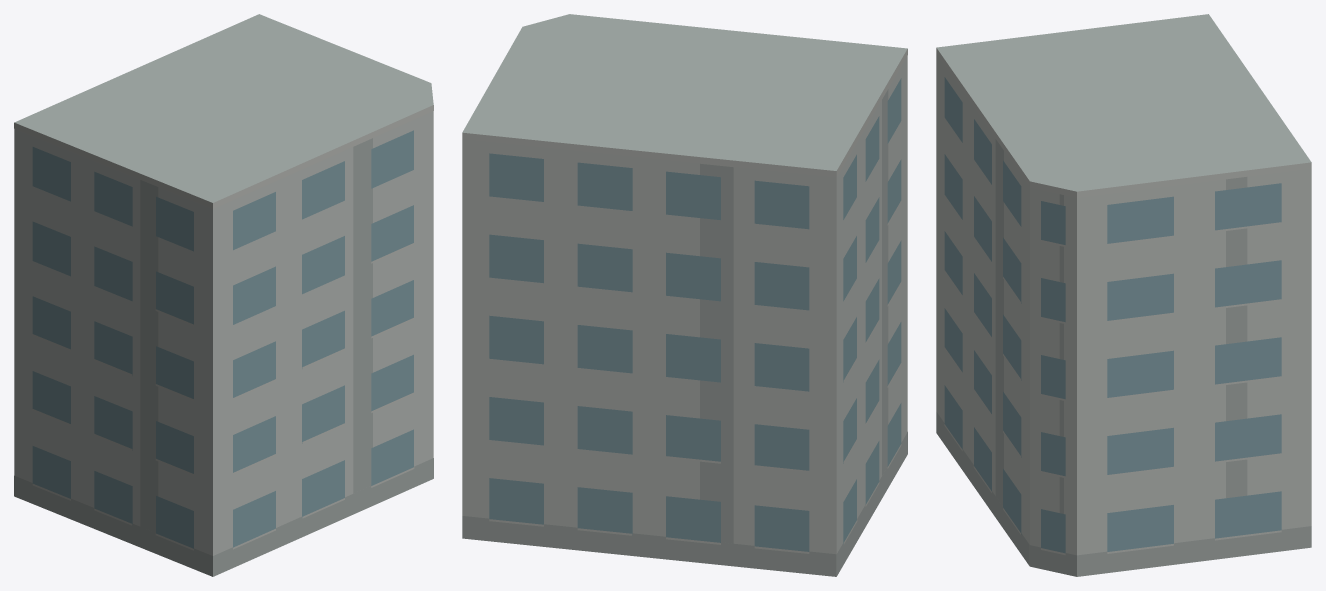
Rendered from survey-upis-32735689.glb.
3 views of the same model, side by side, from view 1: azimuth 30°, elevation 25°; view 2: azimuth 150°, elevation 25°; view 3: azimuth 270°, elevation 25° (orthographic). The views are drawn at different scales.
Parts seen in each view (by area): view 1: survey-upis-32735689.tmp; view 2: survey-upis-32735689.tmp; view 3: survey-upis-32735689.tmp.
Boxes of the visible parts, x1,y1,x2,y2 form: survey-upis-32735689.tmp: (14, 14, 433, 576); survey-upis-32735689.tmp: (462, 14, 907, 576); survey-upis-32735689.tmp: (936, 14, 1311, 576).
Bounding box in the file's own units: 14.65 × 14.8 × 13.08.
